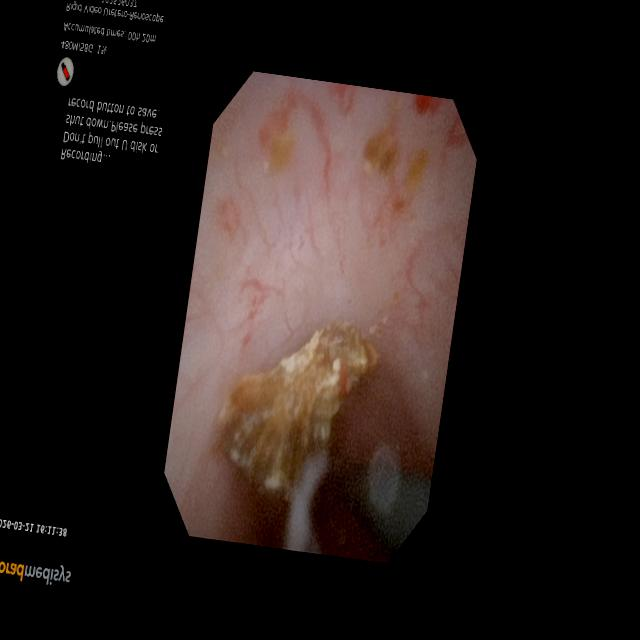stone-new: (218, 324, 378, 499), (364, 131, 398, 177), (267, 132, 294, 173), (405, 151, 427, 196)
